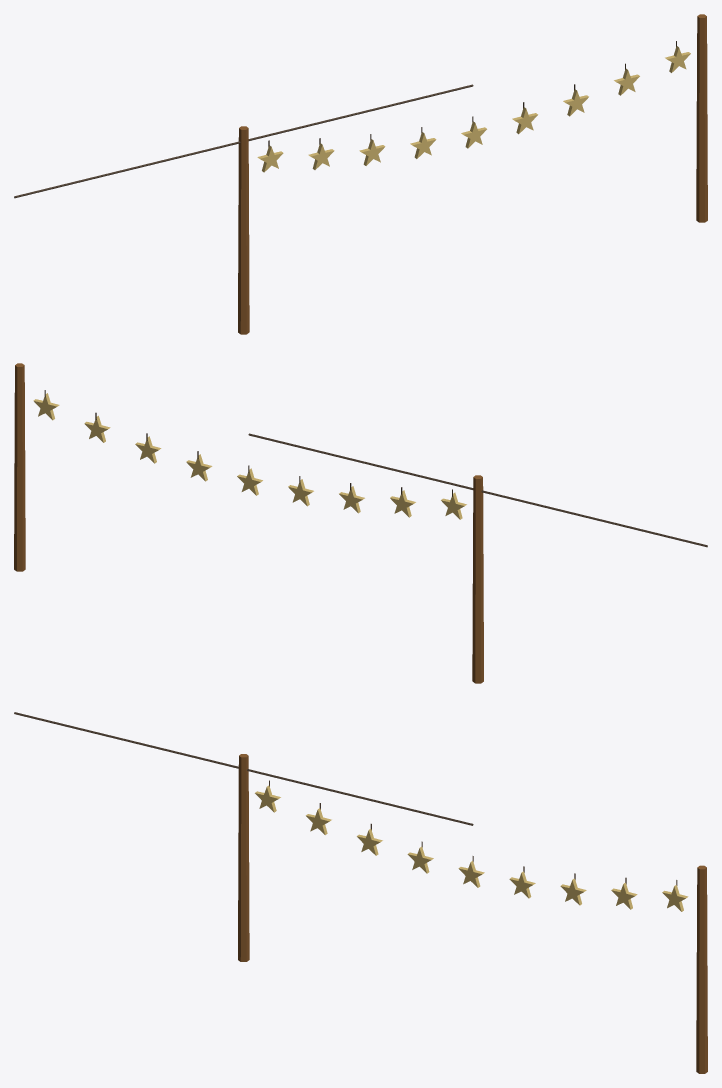
Rendered from star_lanterns.glb.
3 renders of one model, top to bottom at view 1: azimuth 30°, elevation 25°; view 2: azimuth 150°, elevation 25°; view 3: azimuth 330°, elevation 25°, orthographic.
Parts seen in each view (by area): view 1: decor-star_lanterns; view 2: decor-star_lanterns; view 3: decor-star_lanterns.
Part boxes in pixels (x1=…): decor-star_lanterns: x1=14, y1=14, x2=707, y2=334; decor-star_lanterns: x1=14, y1=363, x2=707, y2=683; decor-star_lanterns: x1=14, y1=712, x2=707, y2=1073.
Size of the model in its own units: 8.15 by 2.3 by 0.1204.
